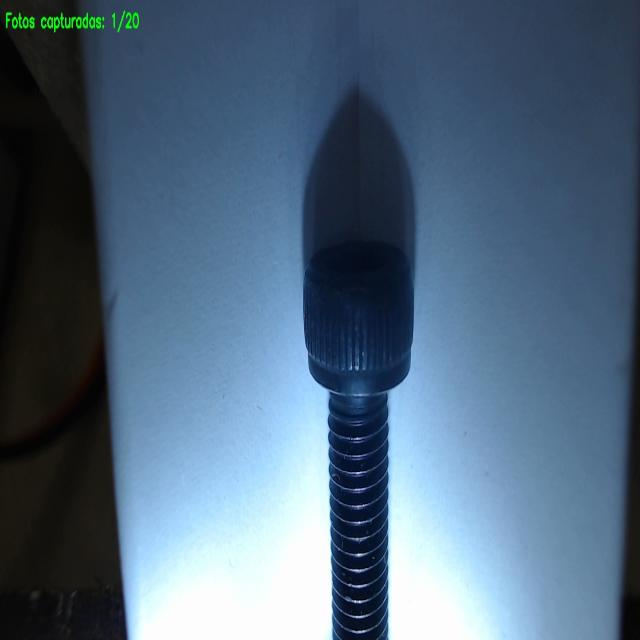vastago: (328, 396, 388, 639)
